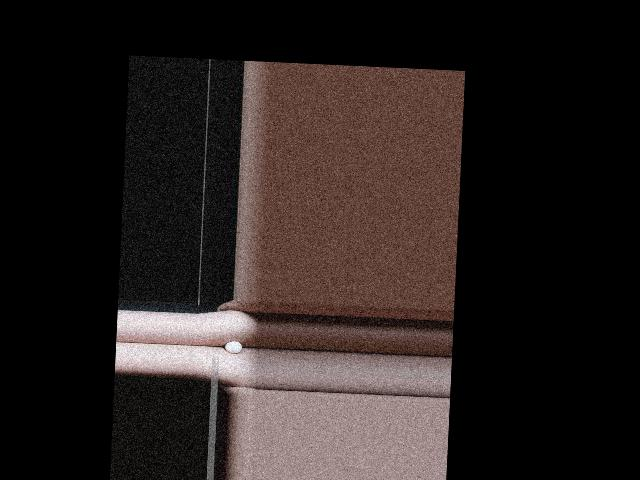egg: (224, 340, 241, 354)
